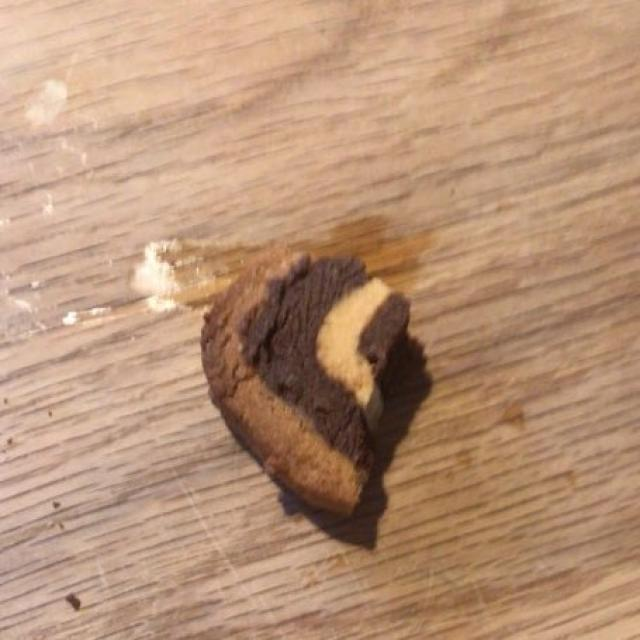biscuits: (198, 257, 418, 528)
